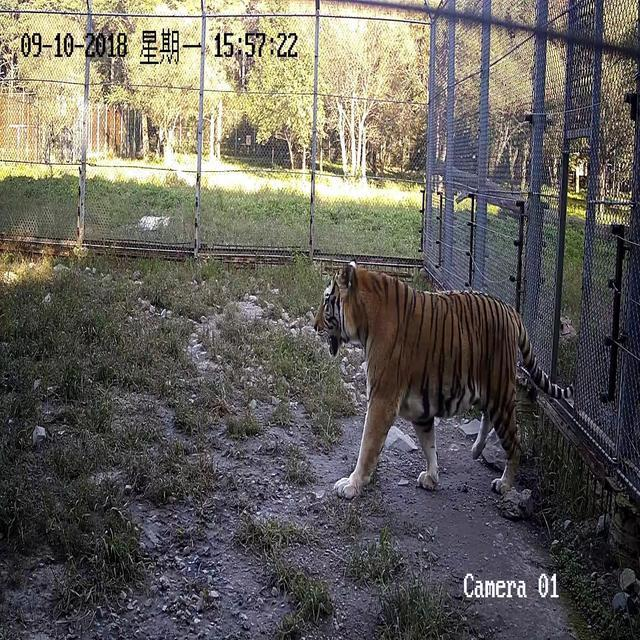tiger: (311, 259, 574, 499)
